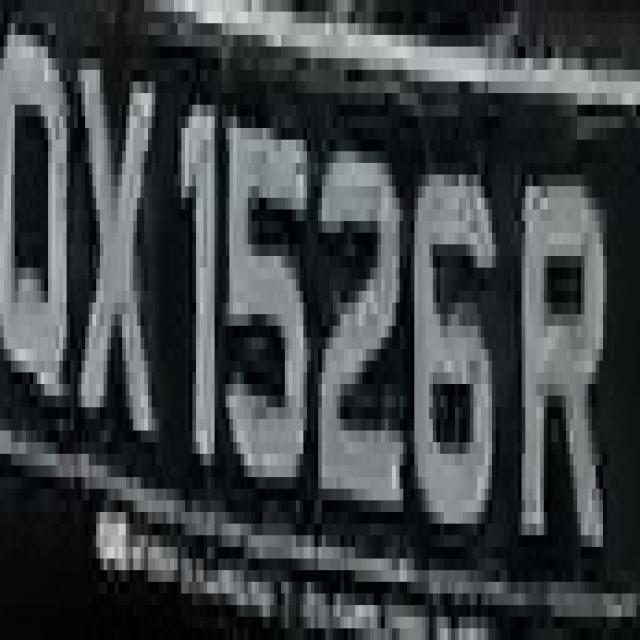1: (166, 81, 222, 512)
2: (307, 117, 407, 536)
5: (211, 105, 303, 512)
6: (404, 128, 499, 547)
Q: (7, 46, 78, 454)
R: (514, 139, 607, 582)
X: (74, 46, 159, 488)
